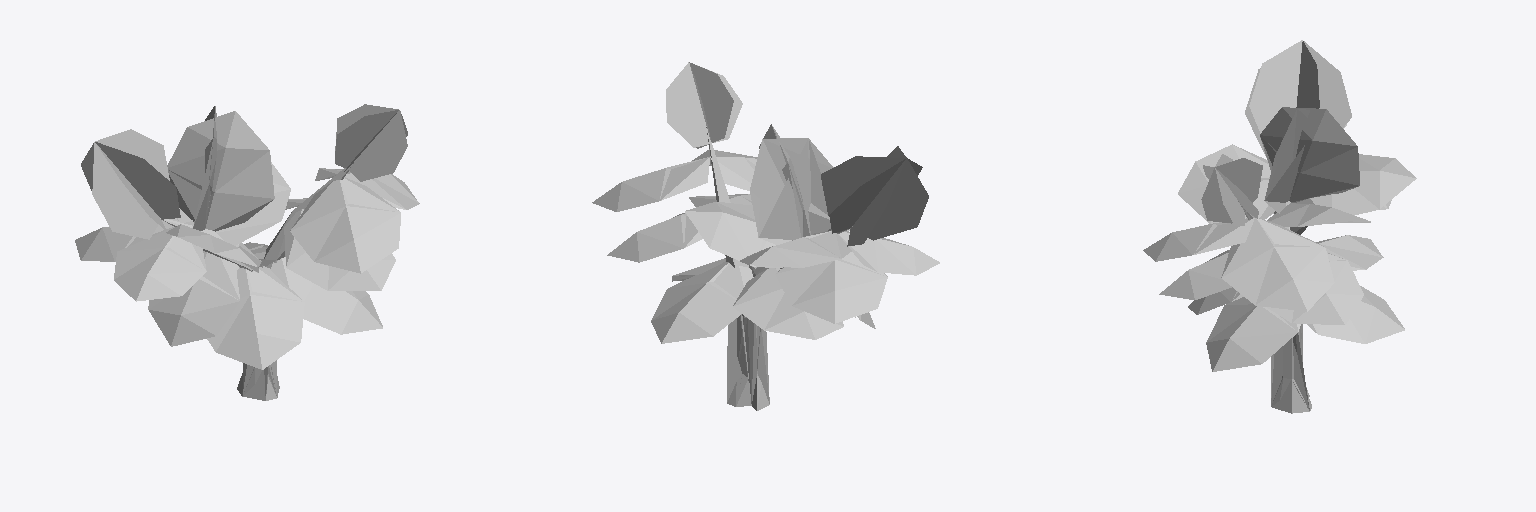
Rendered from Sharp_Oak02.obj.
3 views of the same model, side by side, from view 1: azimuth 30°, elevation 25°; view 2: azimuth 150°, elevation 25°; view 3: azimuth 270°, elevation 25° (orthographic).
Parts seen in each view (by area): view 1: Cfol_Mesh.031, Cfol#2_Mesh.032, Afol_Mesh.051, Efol_Mesh.011, Bfol_Mesh.041, Bfol#2_Mesh.042, Afol#2_Mesh.052, Efol#2_Mesh.012, Dfol#9_Mesh.029, Dfol#5_Mesh.025, Dfol#4_Mesh.024, Dfol#2_Mesh.022 (+6 smaller); view 2: Cfol_Mesh.031, Cfol#2_Mesh.032, Afol_Mesh.051, Afol#2_Mesh.052, Bfol_Mesh.041, Bfol#2_Mesh.042, Dfol_Mesh.021, Dfol#5_Mesh.025, Dfol#6_Mesh.026, Efol#9_Mesh.019, Dfol#4_Mesh.024, Dfol#9_Mesh.029 (+12 smaller); view 3: Cfol_Mesh.031, Cfol#2_Mesh.032, Afol_Mesh.051, Efol_Mesh.011, Bfol#2_Mesh.042, Afol#2_Mesh.052, Bfol_Mesh.041, Dfol#5_Mesh.025, Dfol#6_Mesh.026, Efol#2_Mesh.012, Dfol#4_Mesh.024, Dfol#7_Mesh.027 (+4 smaller).
Boxes of the visible parts, x1,y1,x2,y2 form: Cfol_Mesh.031: [81, 168, 419, 293]; Cfol#2_Mesh.032: [75, 168, 415, 301]; Afol_Mesh.051: [207, 242, 381, 369]; Efol_Mesh.011: [168, 148, 274, 230]; Bfol_Mesh.041: [148, 162, 395, 343]; Bfol#2_Mesh.042: [149, 164, 395, 346]; Afol#2_Mesh.052: [217, 244, 382, 369]; Efol#2_Mesh.012: [167, 106, 271, 230]; Dfol#9_Mesh.029: [95, 142, 180, 238]; Dfol#5_Mesh.025: [81, 113, 396, 238]; Dfol#4_Mesh.024: [82, 104, 407, 229]; Dfol#2_Mesh.022: [81, 105, 405, 239]; Cfol_Mesh.031: [594, 150, 916, 321]; Cfol#2_Mesh.032: [592, 151, 939, 323]; Afol_Mesh.051: [651, 258, 855, 342]; Afol#2_Mesh.052: [651, 260, 843, 343]; Bfol_Mesh.041: [637, 194, 872, 325]; Bfol#2_Mesh.042: [607, 197, 875, 328]; Dfol_Mesh.021: [666, 66, 925, 243]; Dfol#5_Mesh.025: [667, 63, 927, 240]; Dfol#6_Mesh.026: [821, 146, 928, 246]; Efol#9_Mesh.019: [759, 140, 810, 239]; Dfol#4_Mesh.024: [666, 62, 927, 234]; Dfol#9_Mesh.029: [821, 159, 917, 243]; Cfol_Mesh.031: [1156, 145, 1394, 311]; Cfol#2_Mesh.032: [1143, 154, 1416, 311]; Afol_Mesh.051: [1198, 235, 1404, 371]; Efol_Mesh.011: [1260, 111, 1359, 212]; Bfol#2_Mesh.042: [1159, 208, 1370, 324]; Afol#2_Mesh.052: [1188, 235, 1404, 371]; Bfol_Mesh.041: [1189, 203, 1365, 324]; Dfol#5_Mesh.025: [1208, 41, 1351, 225]; Dfol#6_Mesh.026: [1245, 40, 1351, 149]; Efol#2_Mesh.012: [1260, 107, 1355, 211]; Dfol#4_Mesh.024: [1202, 44, 1337, 225]; Dfol#7_Mesh.027: [1207, 161, 1262, 225].
Size of the model in its own units: 25.99 by 21.85 by 18.97.